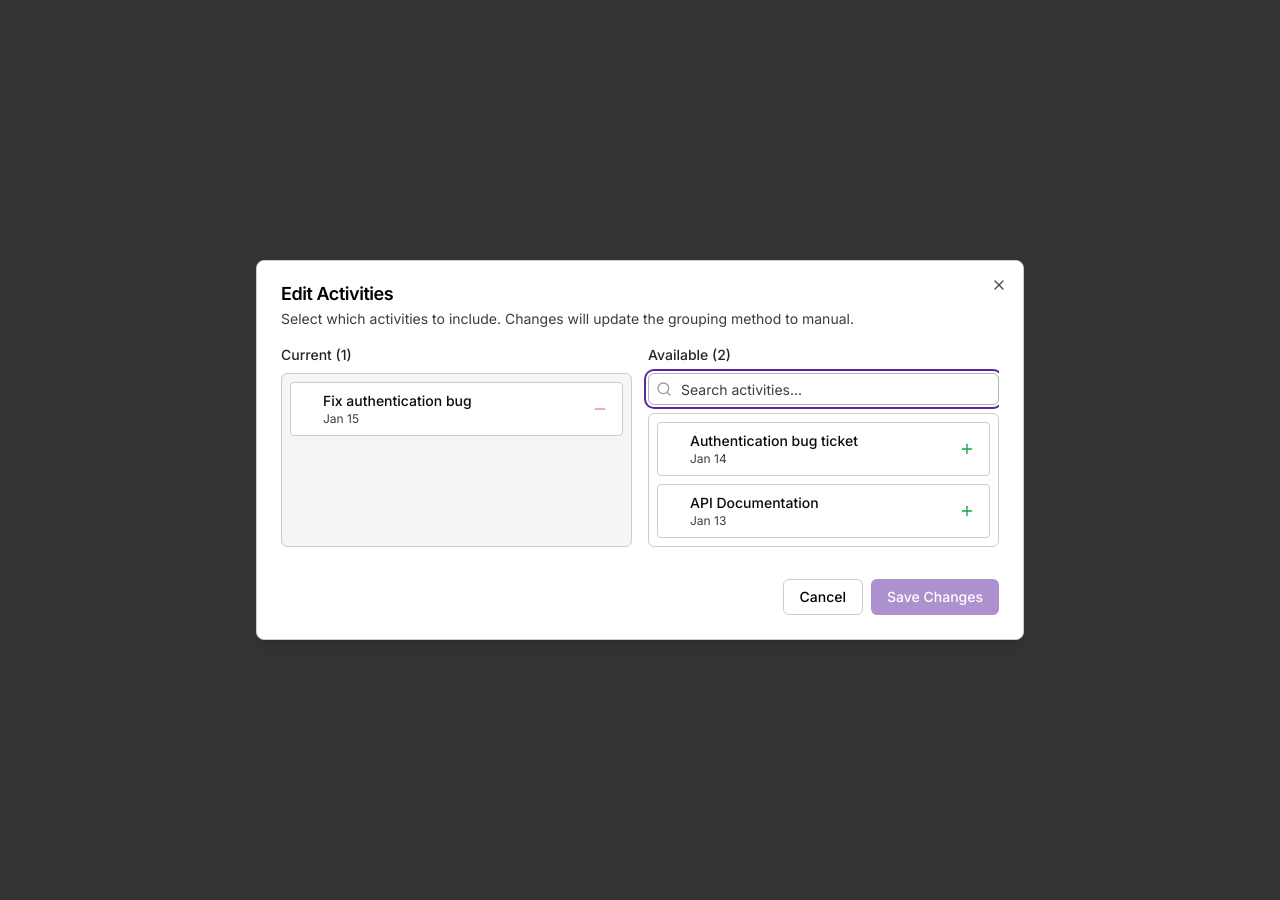
Test case: EditActivitiesModal › shows error message on save failure
# Make a change
Click the button titled "Add to current" next to "Authentication bug ticket".
click(967, 449)  # box [953, 435, 981, 463]
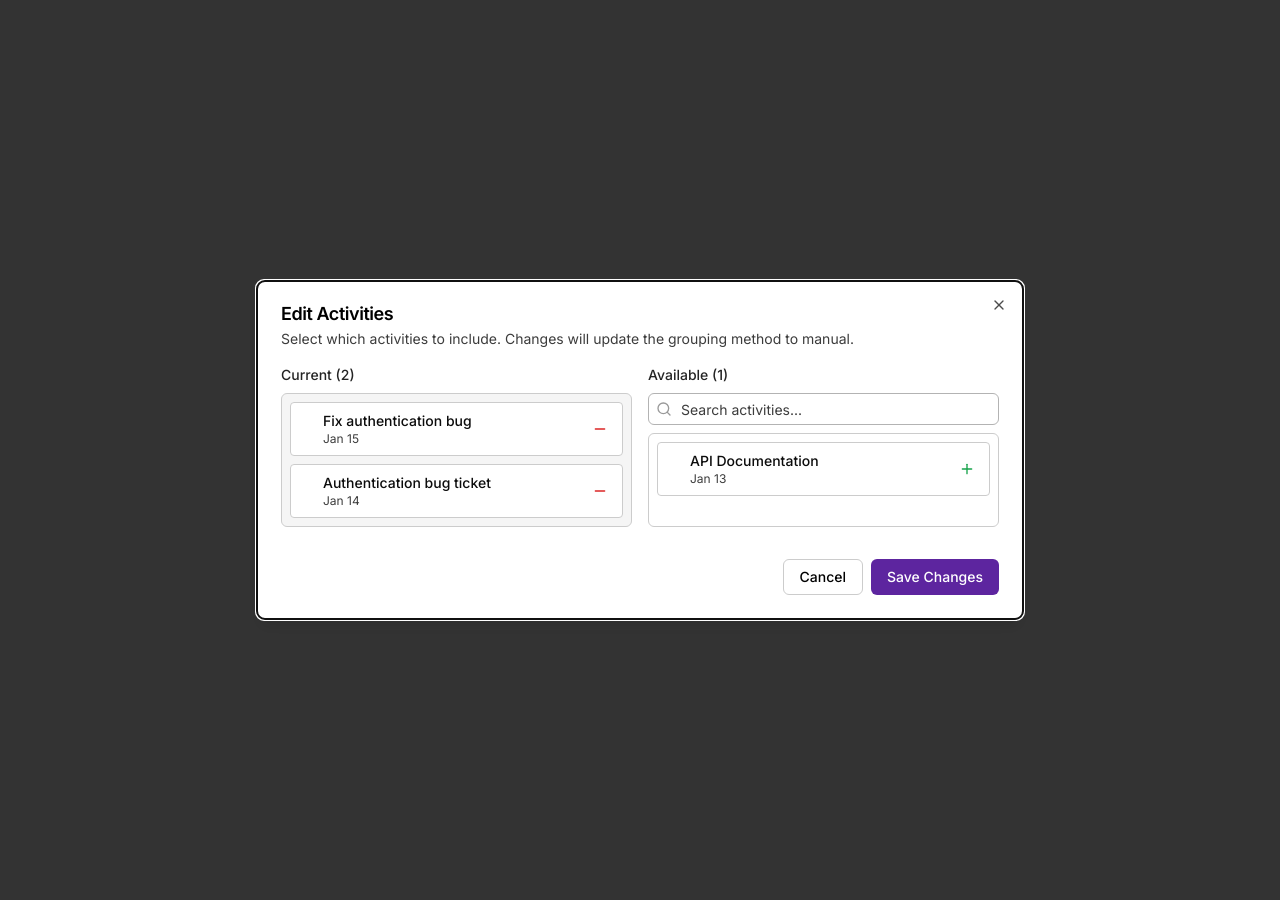
# Click save
Click the button "Save Changes".
click(935, 577)  # box [871, 559, 999, 595]
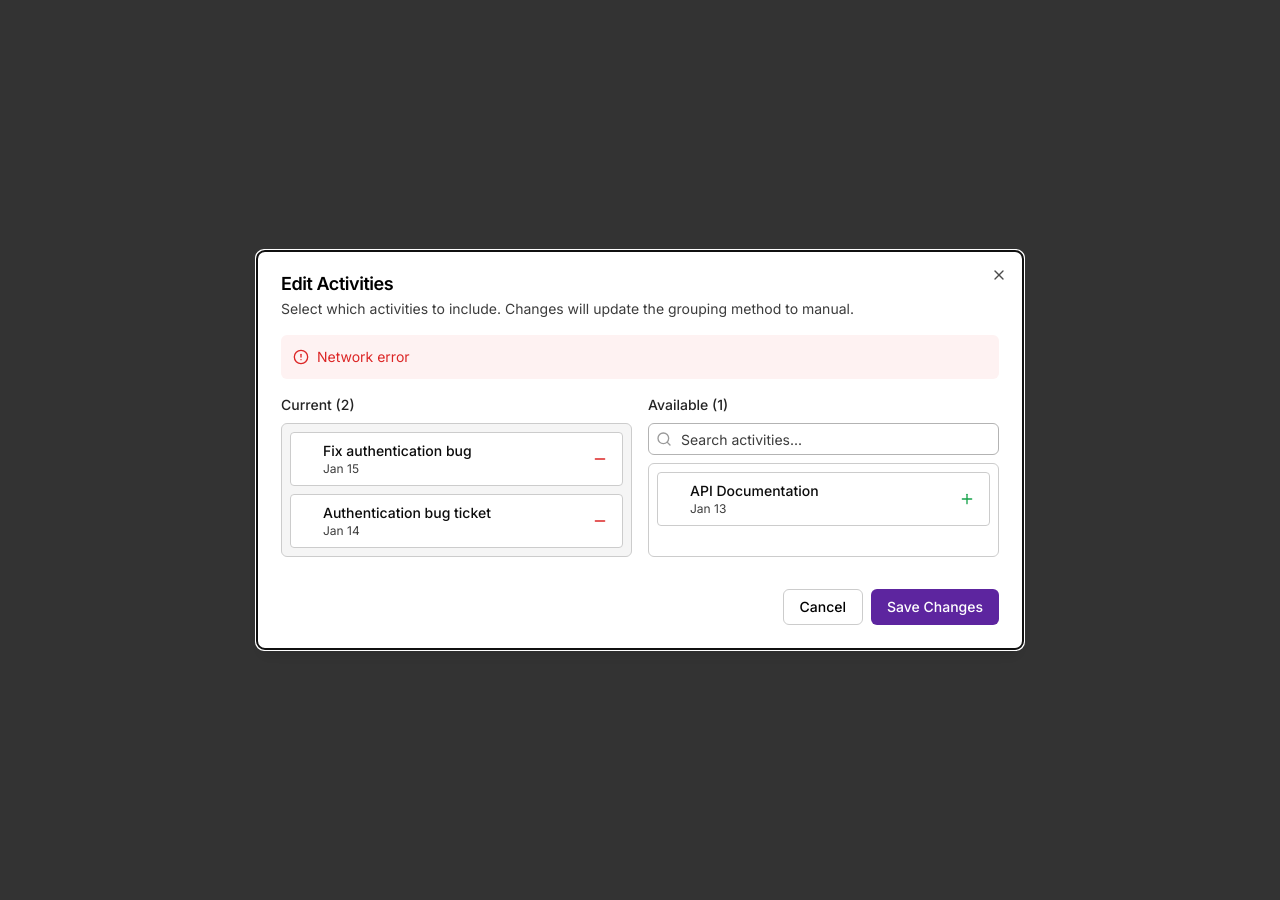
Expected: the text "Network error" is shown, [281, 335, 999, 379]
